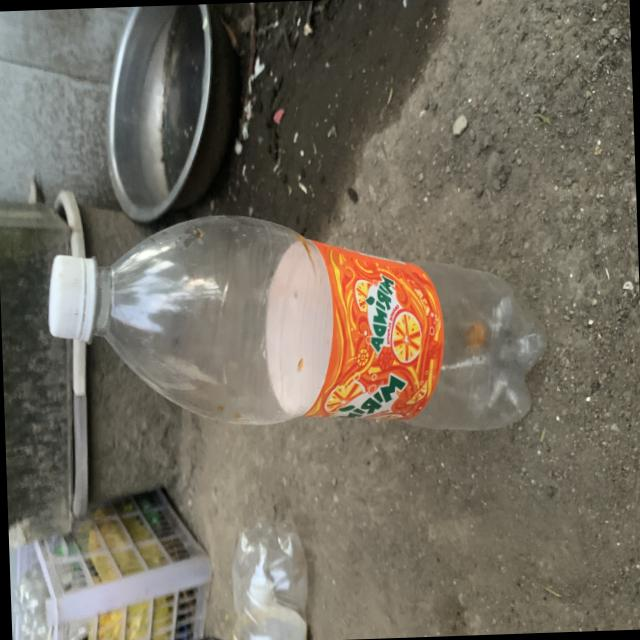Bottle: (48, 215, 544, 429)
